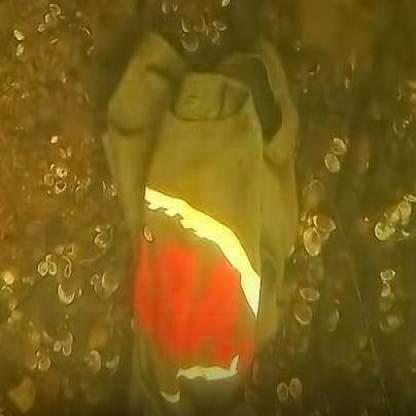misc: (113, 40, 288, 323)
